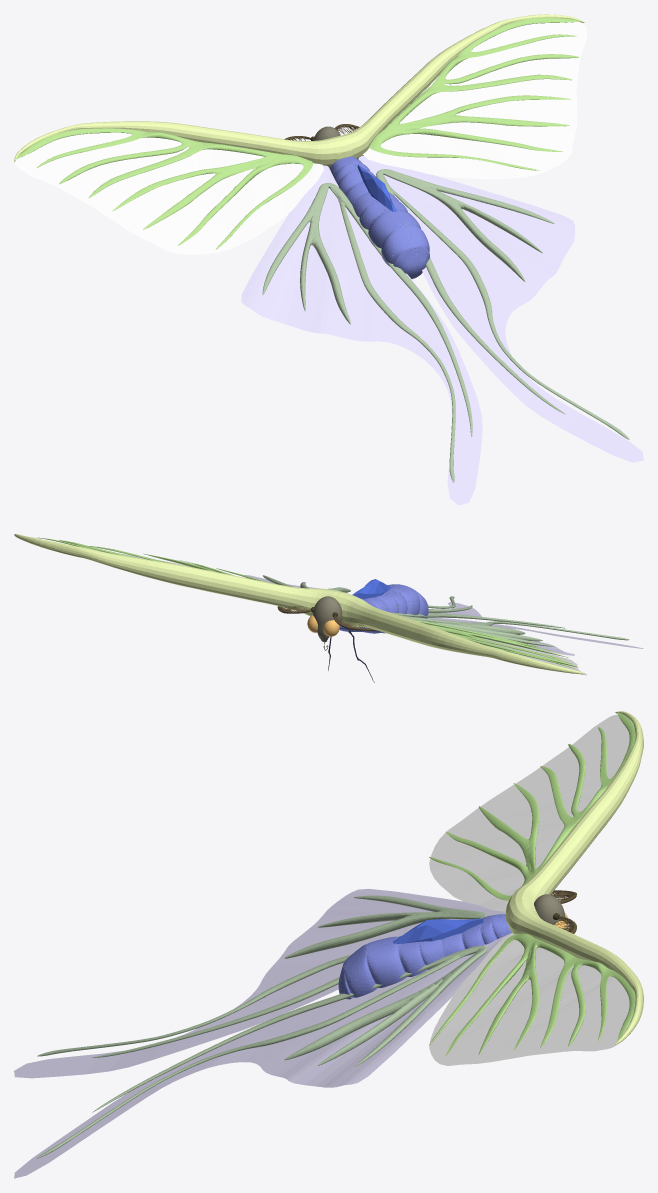
File: papillon_2_draco.glb
3 renders of one model, top to bottom at view 1: azimuth 30°, elevation 25°; view 2: azimuth 150°, elevation 25°; view 3: azimuth 270°, elevation 25°, orthographic. The views are drawn at different scales.
Parts seen in each view (by area): view 1: Cube.001; view 2: Cube.001; view 3: Cube.001.
Part boxes in pixels (box(x1,y1,x2,y2)): Cube.001: box(14, 14, 643, 505); Cube.001: box(14, 534, 643, 682); Cube.001: box(14, 711, 643, 1178).
Size of the model in its own units: 9.19 by 3.37 by 7.37.
